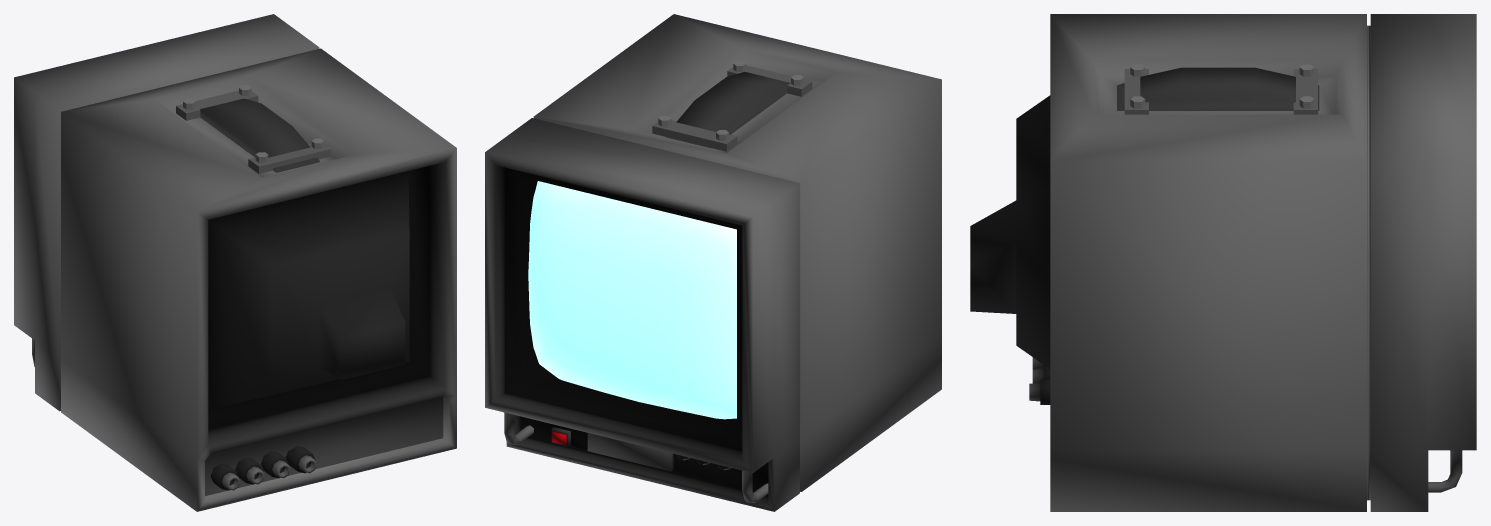
The model's file is crt3.glb.
The picture shows the model from 3 angles, left to right: view 1: azimuth 30°, elevation 25°; view 2: azimuth 150°, elevation 25°; view 3: azimuth 270°, elevation 25°; orthographic projection. The views are drawn at different scales.
Visible parts, largest first — view 1: Cube.012; view 2: Cube.012; view 3: Cube.012.
Part boxes in pixels (x1,y1,x2,y2): Cube.012: (14,14,456,511); Cube.012: (485,14,941,511); Cube.012: (970,14,1476,511).
Size of the model in its own units: 2.01 by 2.27 by 2.91.
